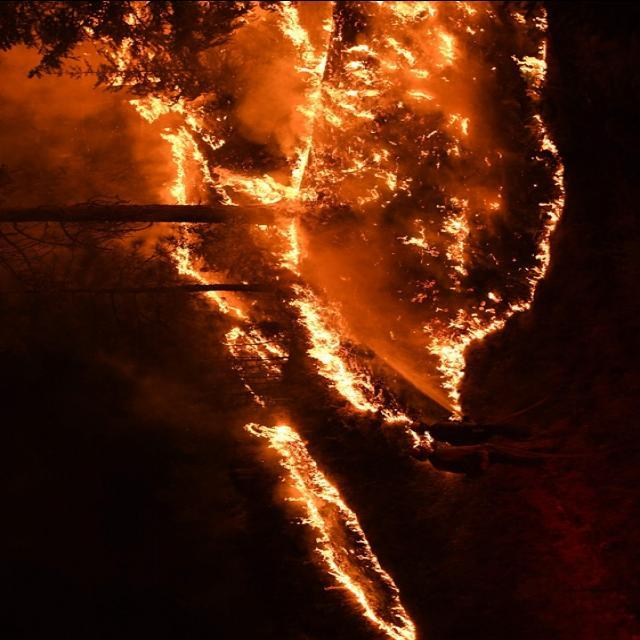Fire: (103, 0, 566, 407), (253, 428, 430, 636)
